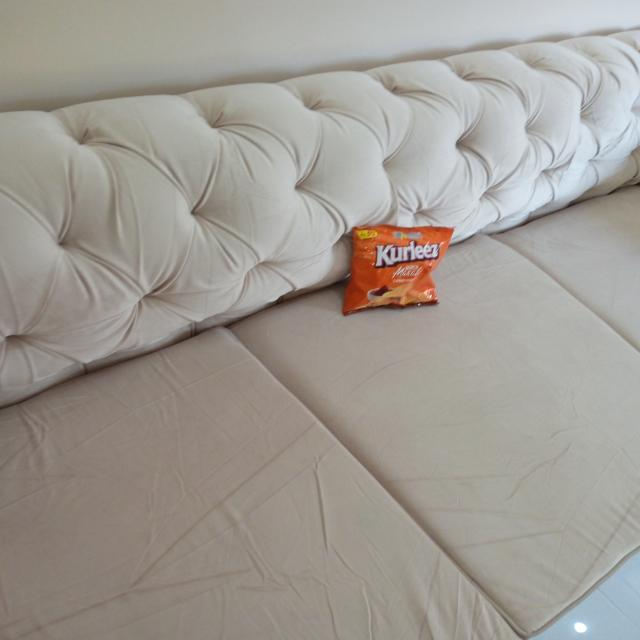Plastic: (342, 226, 452, 313)
